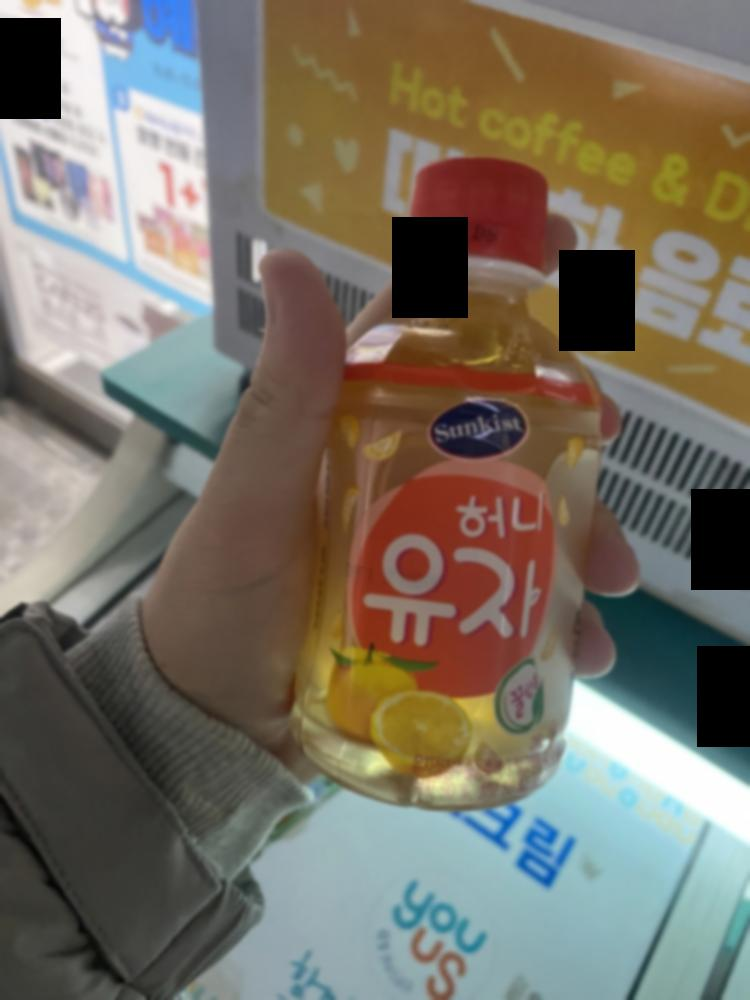honeyyuja: (311, 113, 594, 827)
